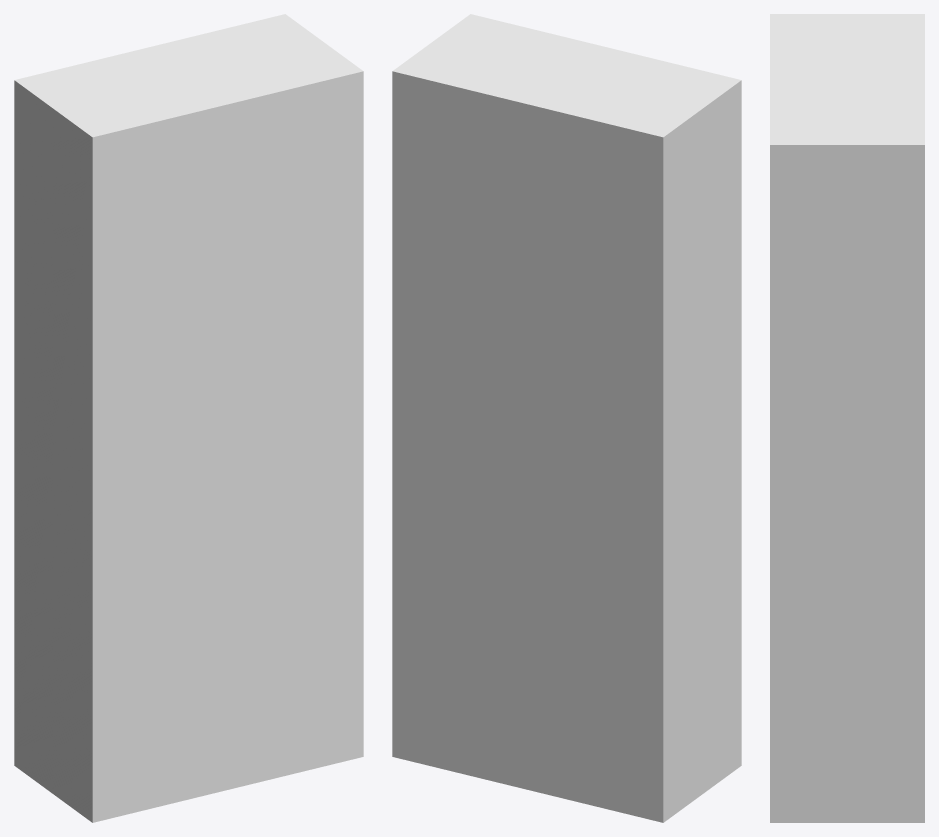
File: DividerWallMedium.fbx
3 views of the same model, side by side, from view 1: azimuth 30°, elevation 25°; view 2: azimuth 150°, elevation 25°; view 3: azimuth 270°, elevation 25° (orthographic).
Parts seen in each view (by area): view 1: DividerWallMedium; view 2: DividerWallMedium; view 3: DividerWallMedium.
Part boxes in pixels (x1,y1,x2,y2): DividerWallMedium: (14, 14, 363, 822); DividerWallMedium: (392, 14, 741, 822); DividerWallMedium: (770, 14, 924, 822).
Bounding box in the file's own units: 60 × 145 × 30.
Materials: 1 (1 with a texture image).
